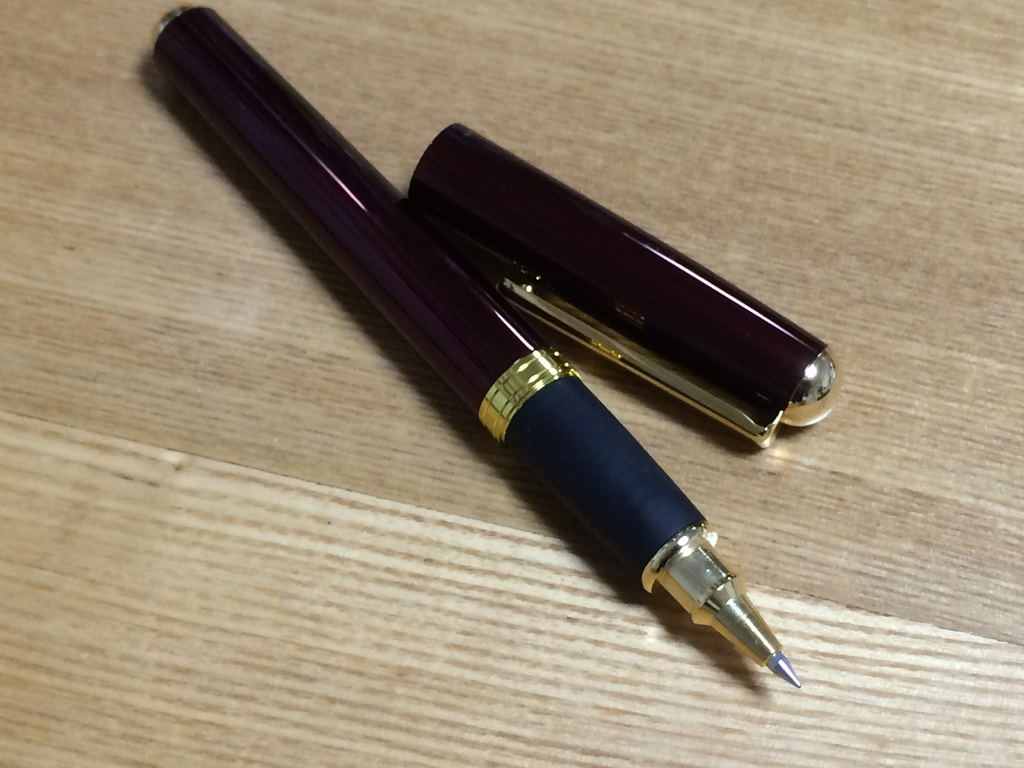Pen: (149, 0, 810, 693)
